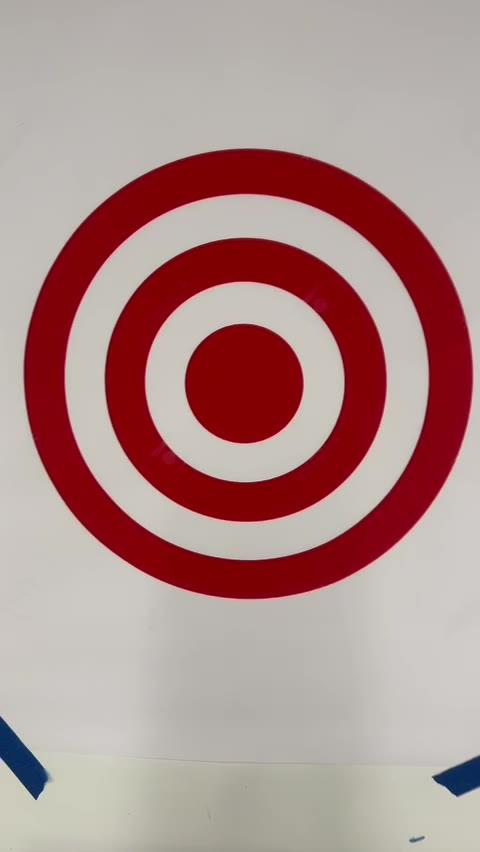target_red: (24, 149, 480, 600)
